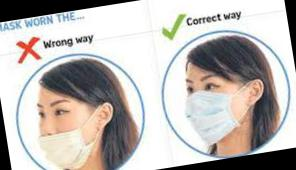mask_weared_incorrect: (32, 93, 97, 164)
with_mask: (182, 69, 238, 133)
